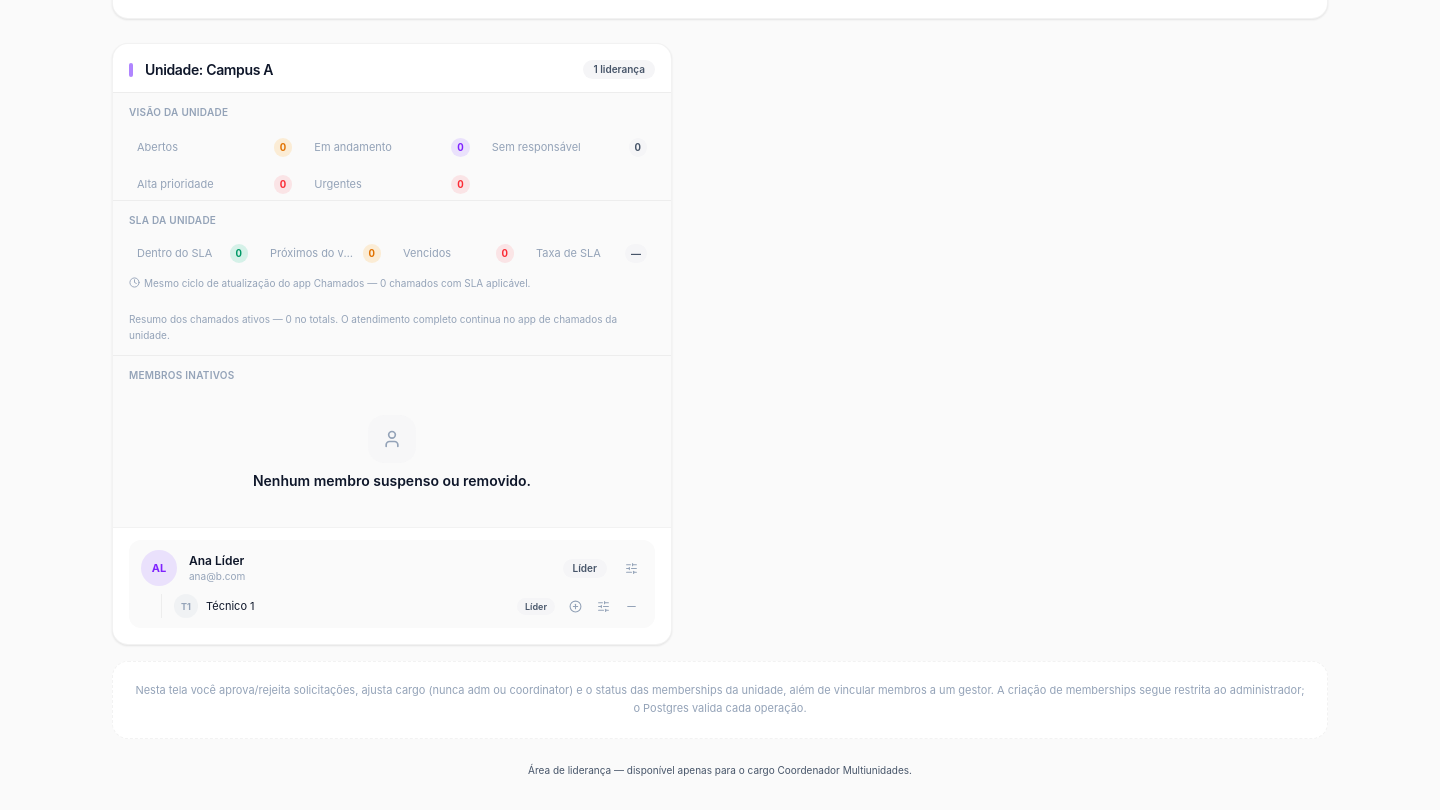
Test case: CoordinatorHome (Área do Coordenador — gestão por RPC escopada) › gestão de cargo e status (setCoordinatorRole / suspend / remove) › salvar cargo envia só o slug permitido e atualiza a árvore
The image size is (1440, 810).
(page scrolled)
Click the button named "Gerenciar Técnico 1".
click(603, 606)  # box x1=591 y1=594 x2=615 y2=618
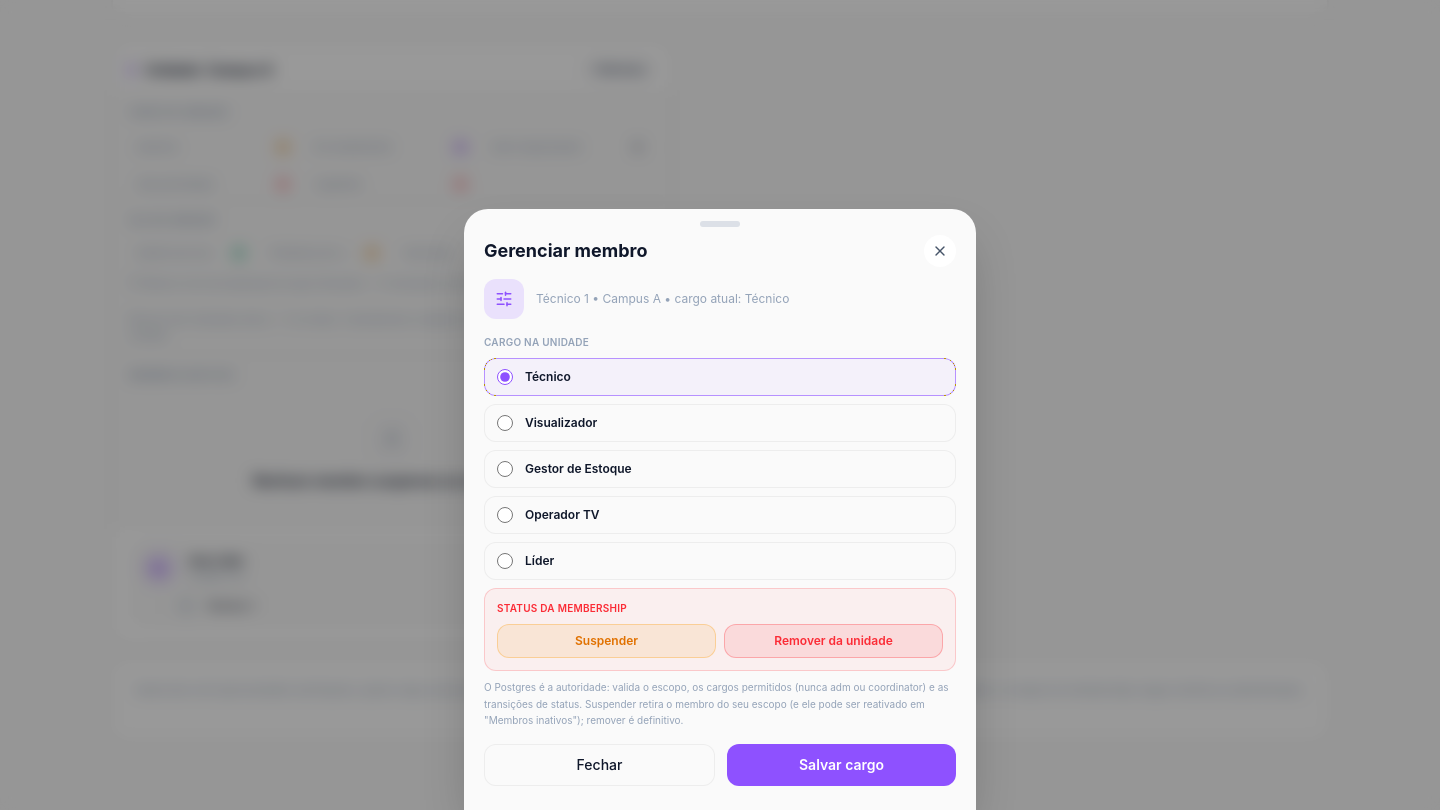
Click the radio button labelled "Gestor de Estoque".
click(505, 469)  # box x1=497 y1=461 x2=513 y2=477
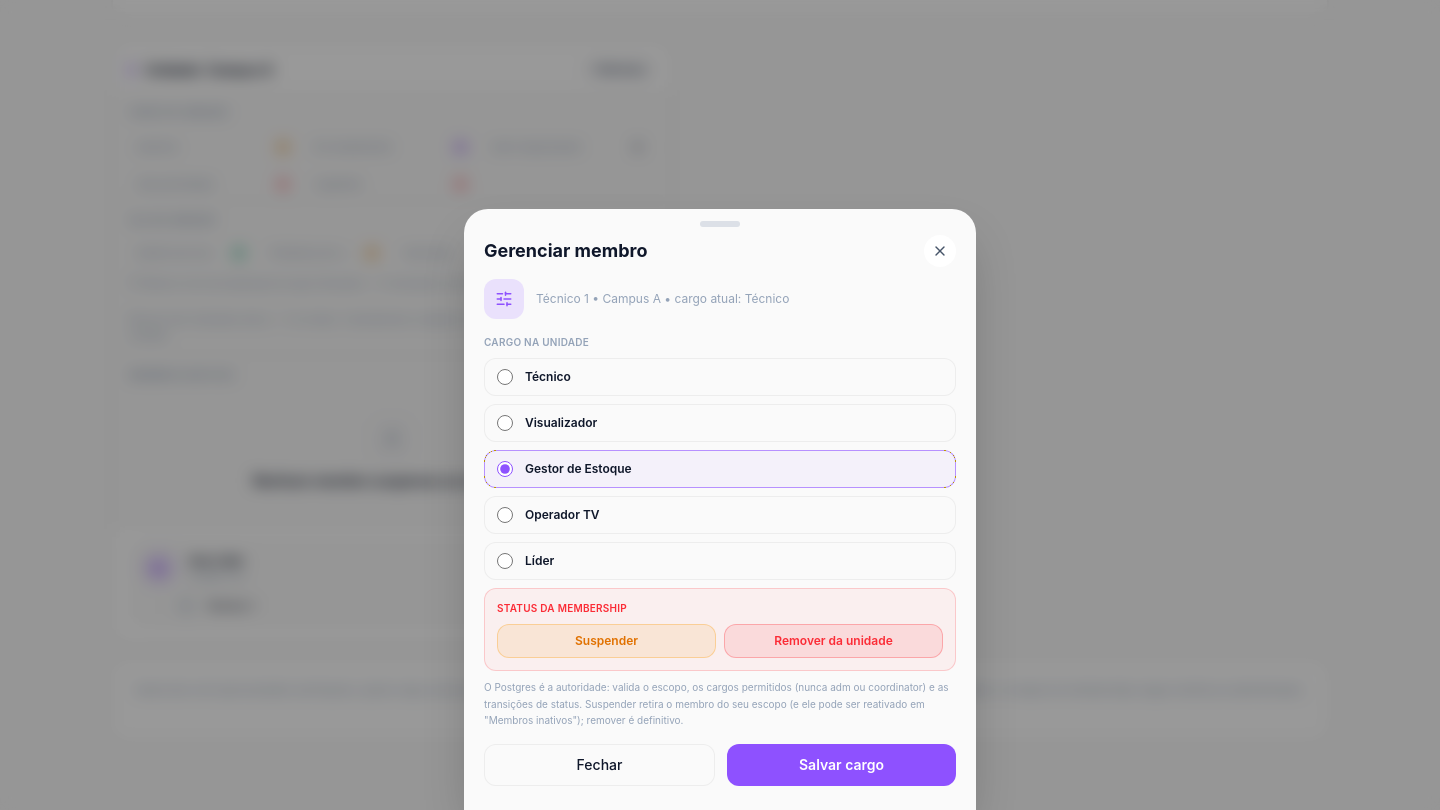
Click the button "Salvar cargo".
click(842, 765)  # box x1=727 y1=744 x2=956 y2=786
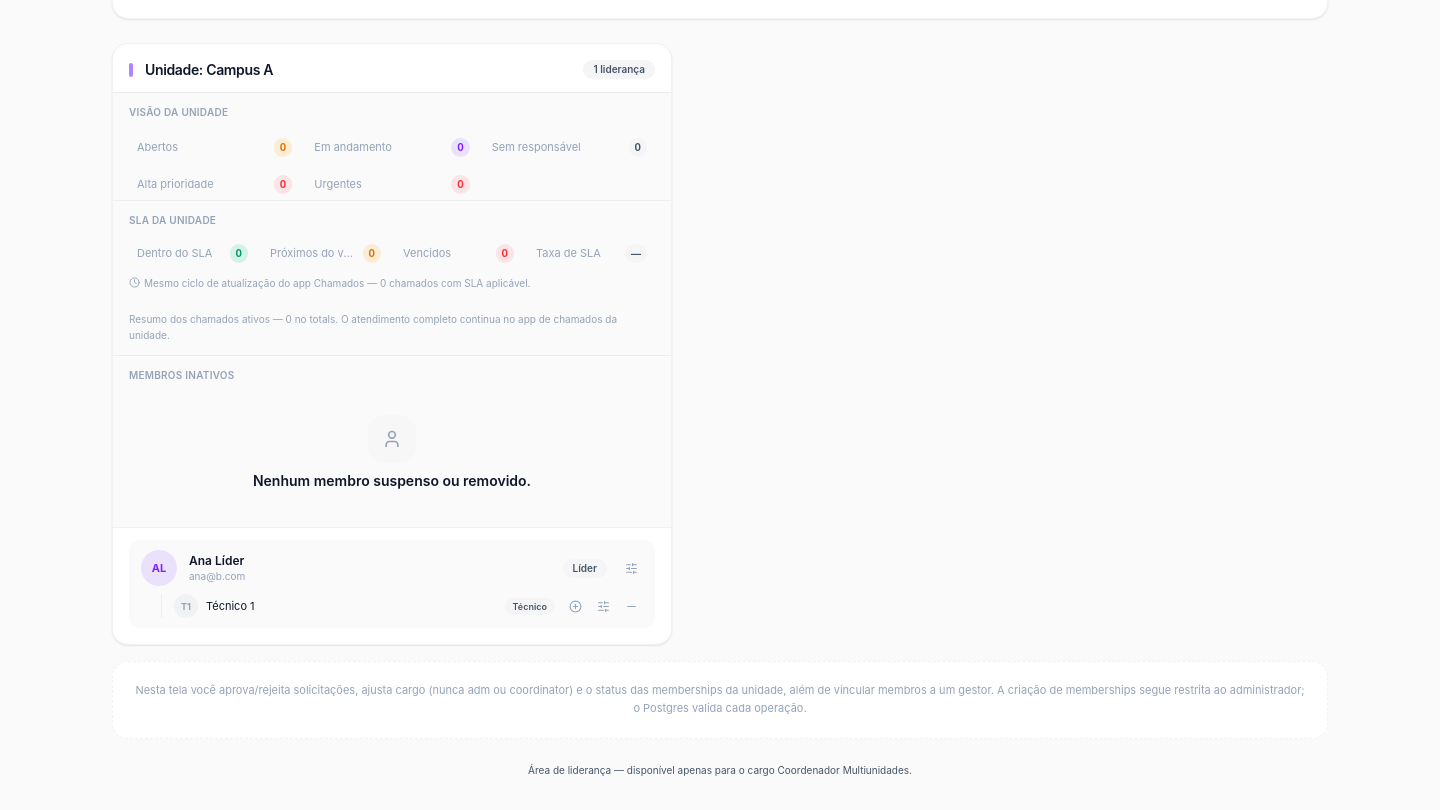
Now the heading "Gerenciar membro" is gone
